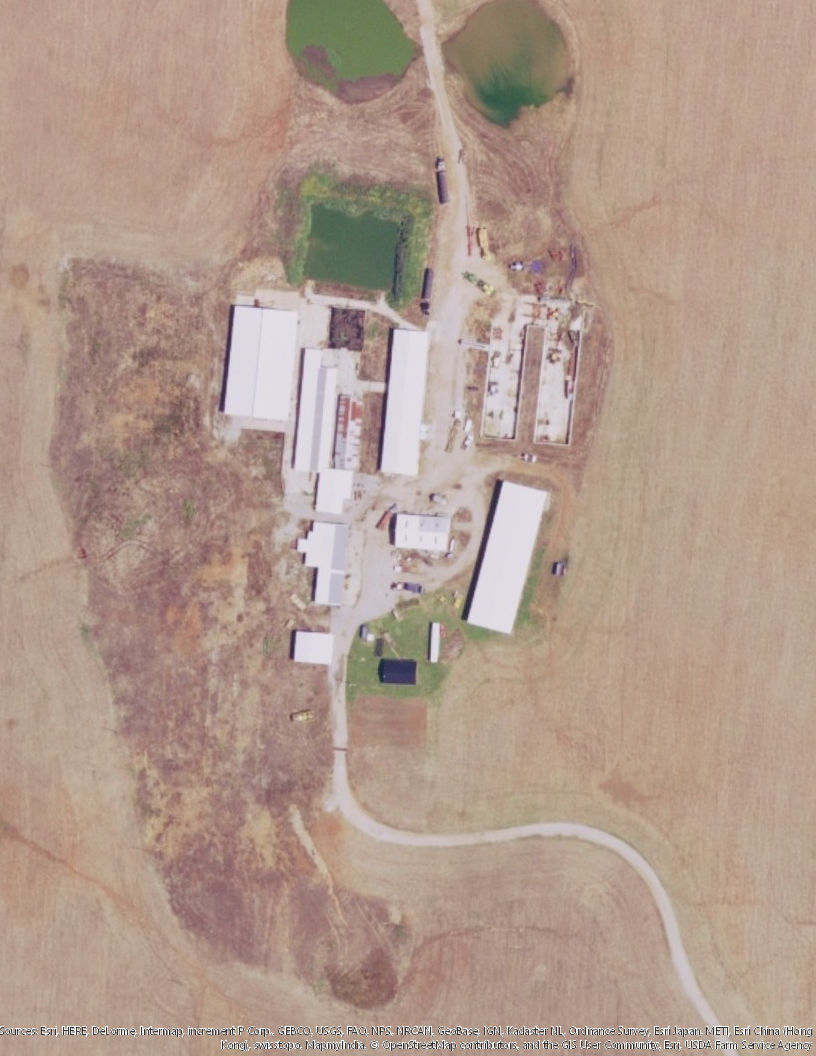cafo: (461, 465, 557, 648), (288, 344, 370, 483), (219, 295, 302, 421), (376, 316, 437, 485), (299, 518, 356, 616), (389, 511, 459, 556), (292, 625, 341, 668)
